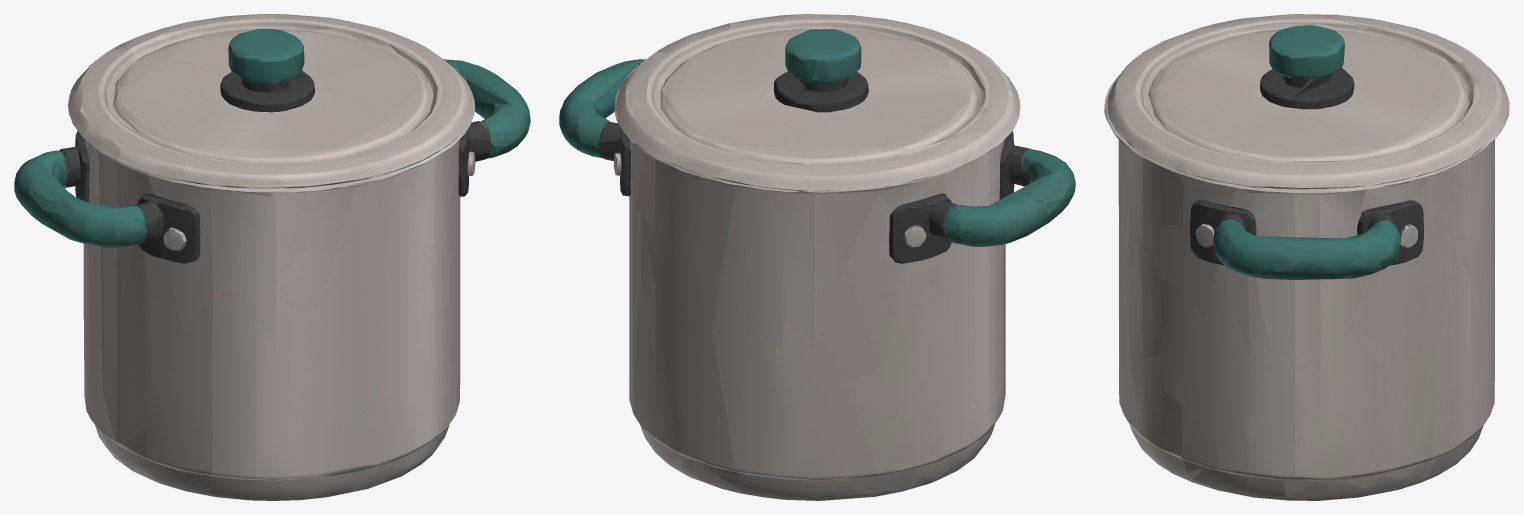
File: rounded-restaurant-stock-pot-covered.glb
3 renders of one model, left to right at view 1: azimuth 30°, elevation 25°; view 2: azimuth 150°, elevation 25°; view 3: azimuth 270°, elevation 25°, orthographic.
Visible parts, largest first — view 1: Mesh_0; view 2: Mesh_0; view 3: Mesh_0.
Part boxes in pixels (x1,y1,x2,y2): Mesh_0: (14,14,530,500); Mesh_0: (559,14,1075,500); Mesh_0: (1104,14,1509,500).
Size of the model in its own units: 0.5 by 0.3895 by 0.3688.
1 material, 1 textured.
